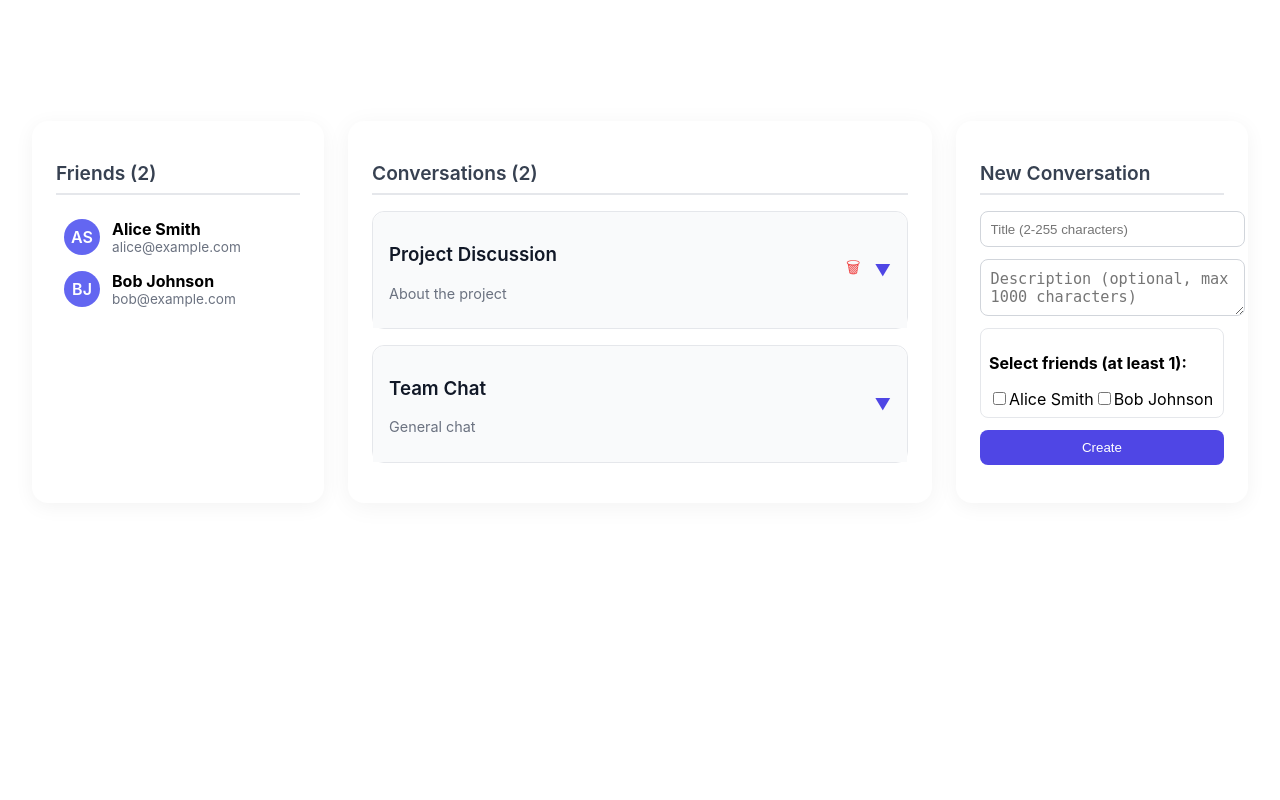
it: Messages Component › ouvre et ferme une conversation
Expected: the heading "Project Discussion" is shown, [389,243,557,266]
Click the text "▼" in the row of "Project Discussion".
click(883, 270)  # box [874,260,891,280]
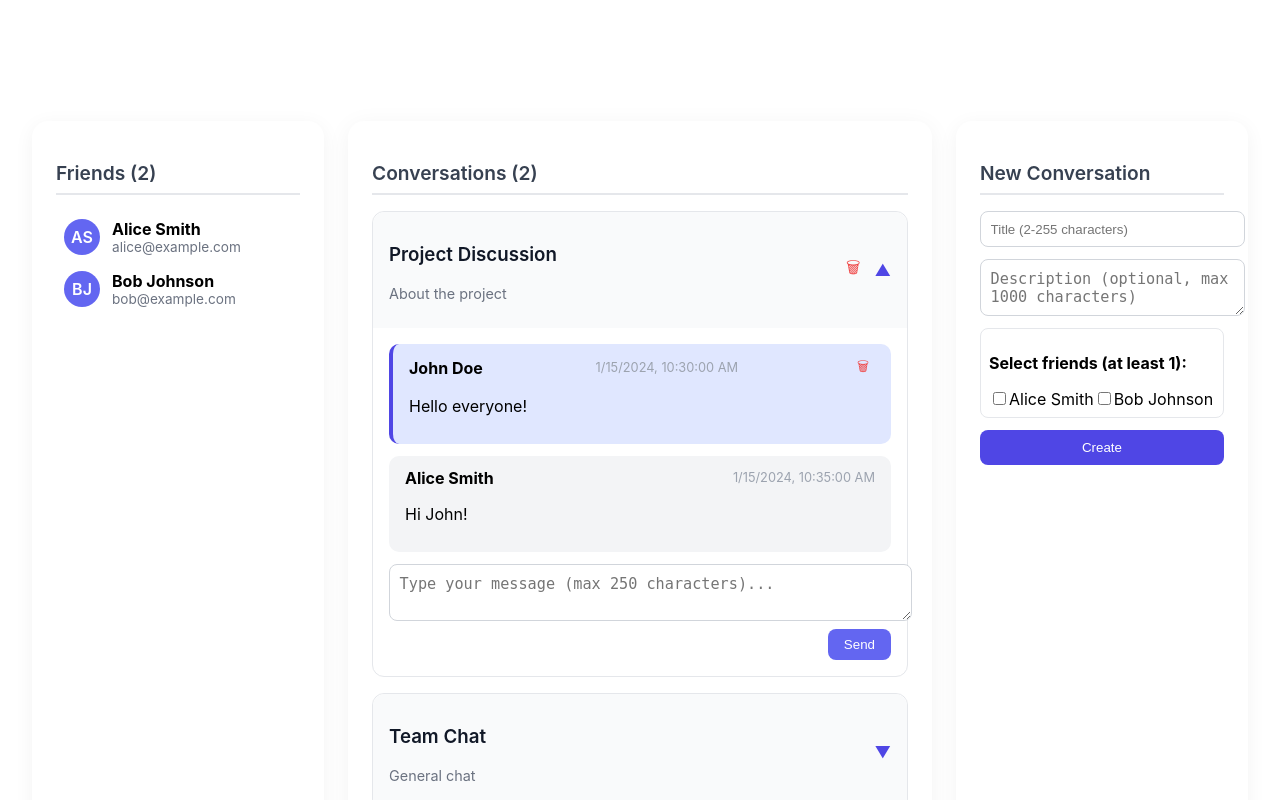
Expected: the text "Hello everyone!" is shown, [409,396,527,416]
Click the text "▼".
click(883, 752)  # box [874,742,891,762]
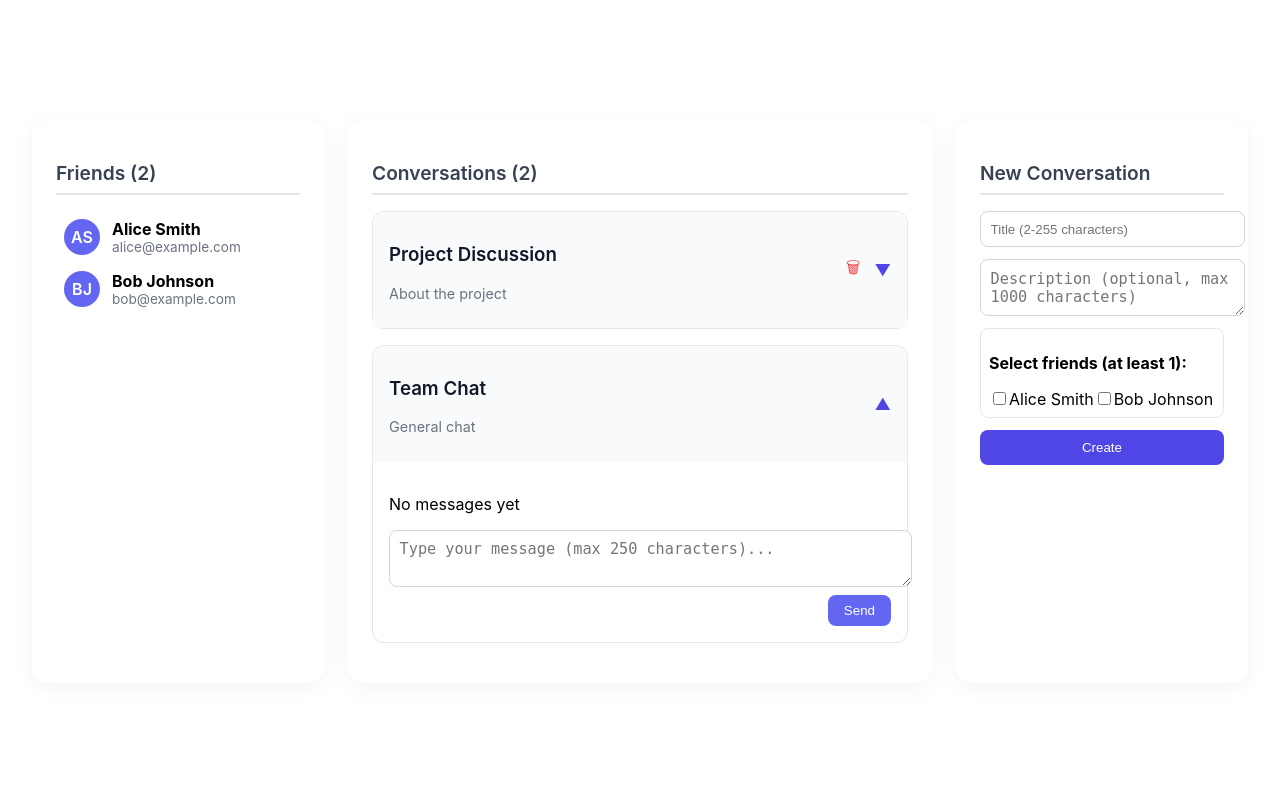
Expected: the text "Hello everyone!" is gone
